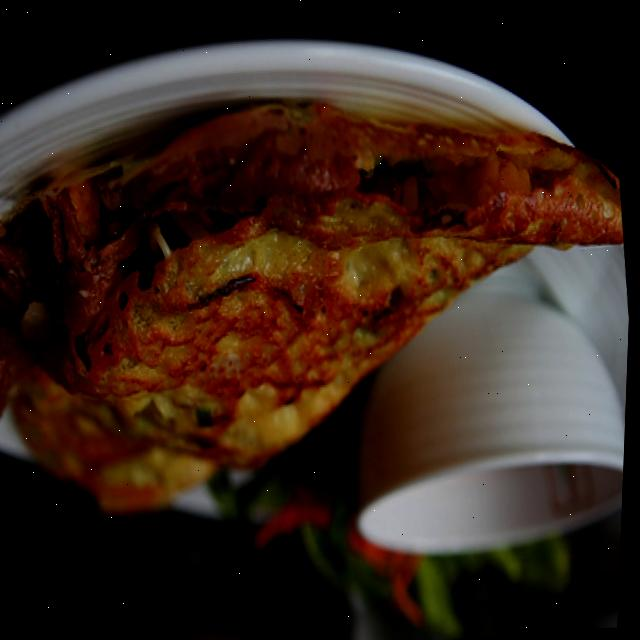鸡蛋料理: (0, 45, 639, 562)
